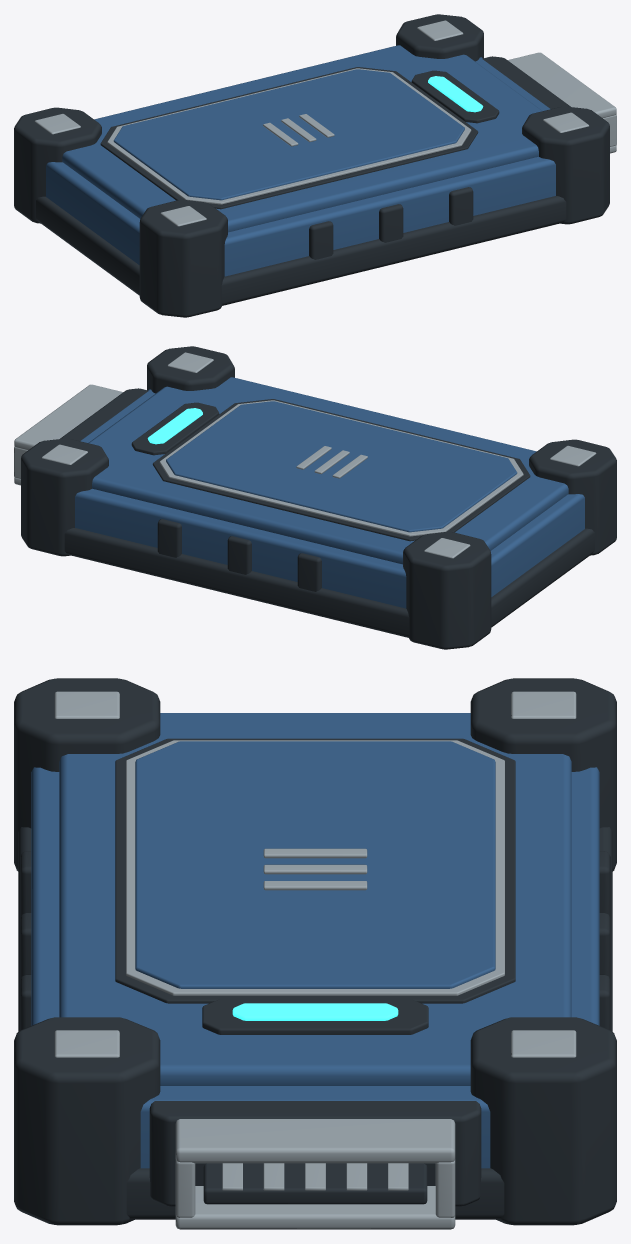
The model's file is SM_MemoStorageDevice.fbx.
3 views of the same model, one above another, from view 1: azimuth 30°, elevation 25°; view 2: azimuth 150°, elevation 25°; view 3: azimuth 270°, elevation 25° (orthographic). The views are drawn at different scales.
Visible parts, largest first — view 1: SM_MemoStorageDevice; view 2: SM_MemoStorageDevice; view 3: SM_MemoStorageDevice.
Boxes of the visible parts, left/top/right/bottom form: SM_MemoStorageDevice: left=14, top=14, right=616, bottom=317; SM_MemoStorageDevice: left=14, top=346, right=616, bottom=649; SM_MemoStorageDevice: left=14, top=678, right=616, bottom=1229.
Size of what is drawn, in the model's own units: 12 by 7 by 2.07.
